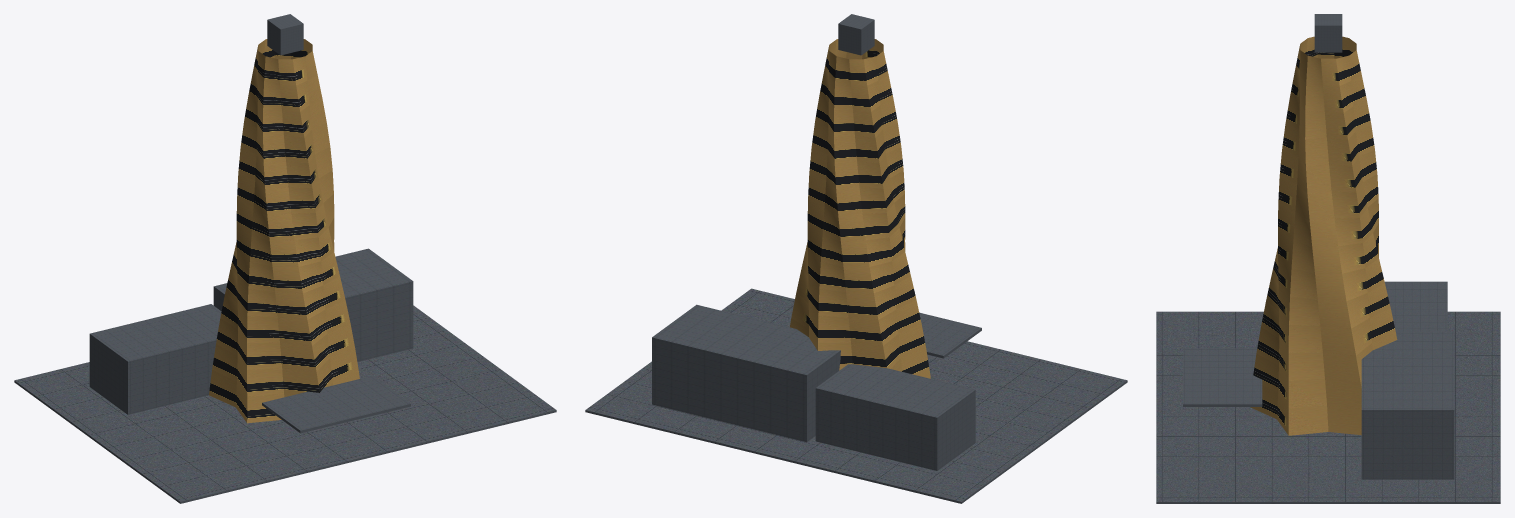
The picture shows the model from 3 angles, left to right: view 1: azimuth 30°, elevation 25°; view 2: azimuth 150°, elevation 25°; view 3: azimuth 270°, elevation 25°; orthographic projection. The views are drawn at different scales.
Parts seen in each view (by area): view 1: 28185_01_21998_002_02_lod2__tower_mass, 28185_01_21998_002_01_lod2__plaza_base, 28185_01_21998_002_03_lod2__podium_mass, 28185_01_21998_002_04_lod2__canopy; view 2: 28185_01_21998_002_02_lod2__tower_mass, 28185_01_21998_002_03_lod2__podium_mass, 28185_01_21998_002_01_lod2__plaza_base, 28185_01_21998_002_04_lod2__canopy; view 3: 28185_01_21998_002_02_lod2__tower_mass, 28185_01_21998_002_01_lod2__plaza_base, 28185_01_21998_002_03_lod2__podium_mass, 28185_01_21998_002_04_lod2__canopy.
Boxes of the visible parts, left/top/right/bottom form: 28185_01_21998_002_02_lod2__tower_mass: left=209, top=14, right=359, bottom=423; 28185_01_21998_002_01_lod2__plaza_base: left=14, top=305, right=556, bottom=503; 28185_01_21998_002_03_lod2__podium_mass: left=89, top=248, right=413, bottom=414; 28185_01_21998_002_04_lod2__canopy: left=262, top=375, right=410, bottom=433; 28185_01_21998_002_02_lod2__tower_mass: left=790, top=14, right=930, bottom=378; 28185_01_21998_002_03_lod2__podium_mass: left=652, top=304, right=975, bottom=470; 28185_01_21998_002_01_lod2__plaza_base: left=585, top=288, right=1127, bottom=503; 28185_01_21998_002_04_lod2__canopy: left=919, top=312, right=981, bottom=358; 28185_01_21998_002_02_lod2__tower_mass: left=1250, top=14, right=1397, bottom=435; 28185_01_21998_002_01_lod2__plaza_base: left=1156, top=311, right=1500, bottom=503; 28185_01_21998_002_03_lod2__podium_mass: left=1361, top=281, right=1454, bottom=479; 28185_01_21998_002_04_lod2__canopy: left=1183, top=348, right=1262, bottom=406.
Size of the model in its own units: 68 by 64.85 by 52.
Materials: 4 (4 with a texture image).
